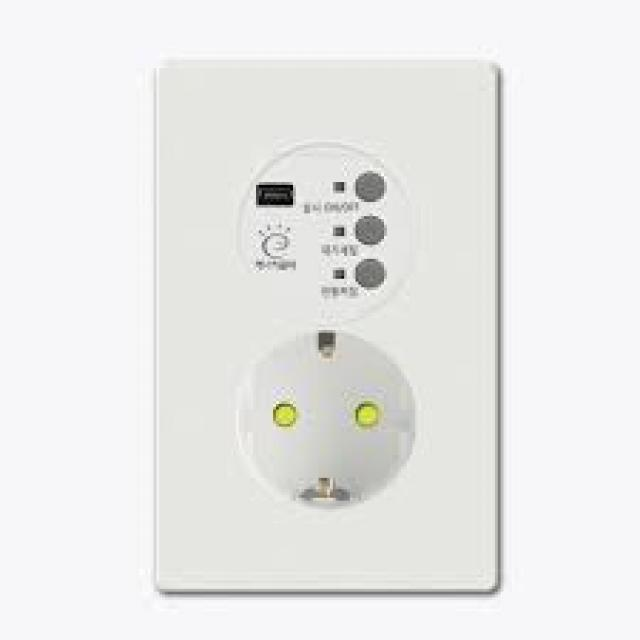typeb: (143, 42, 531, 601)
